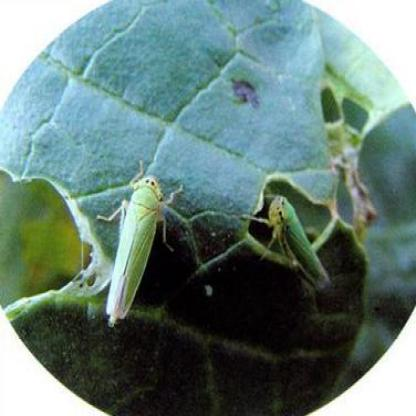Green-Leafhopper: (91, 156, 180, 335), (250, 180, 332, 297)
